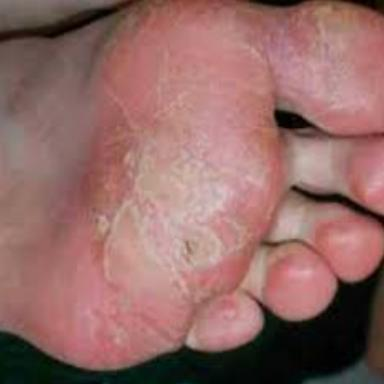eczema: (64, 2, 369, 368)
